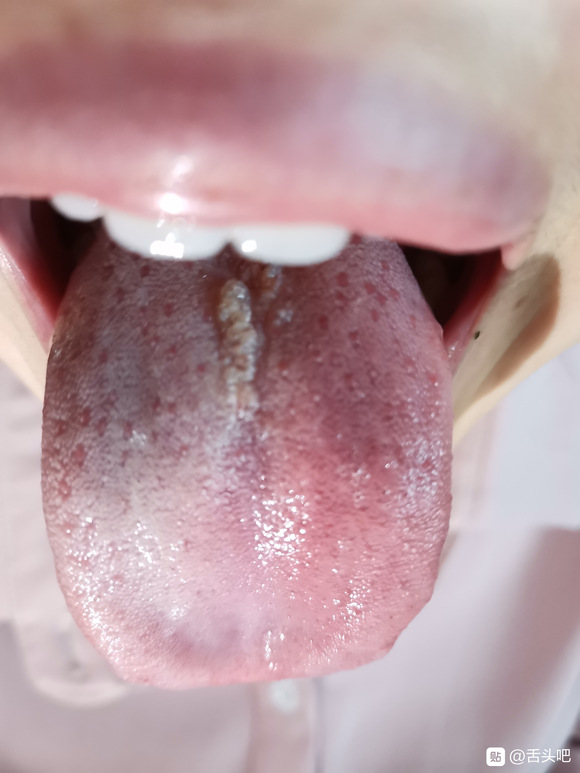baitaishe: (41, 212, 453, 692)
hongdianshe: (119, 416, 138, 444), (334, 267, 351, 291)
